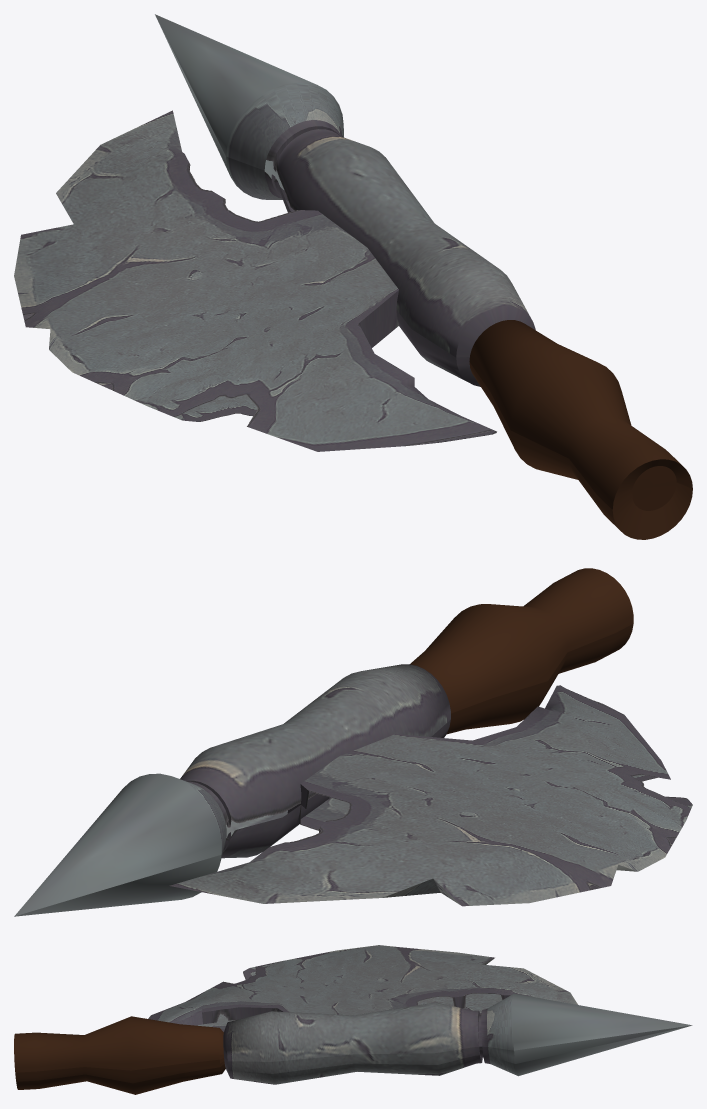
File: DropItem_3.fbx
The picture shows the model from 3 angles, top to bottom: view 1: azimuth 30°, elevation 25°; view 2: azimuth 150°, elevation 25°; view 3: azimuth 270°, elevation 25°; orthographic projection. The views are drawn at different scales.
Parts seen in each view (by area): view 1: FBX_DropItem_3; view 2: FBX_DropItem_3; view 3: FBX_DropItem_3.
Boxes of the visible parts, bbox=[...] form: FBX_DropItem_3: bbox=[14, 14, 692, 539]; FBX_DropItem_3: bbox=[14, 568, 692, 916]; FBX_DropItem_3: bbox=[14, 945, 692, 1094].
Bounding box in the file's own units: 2311 × 862 × 5252.
